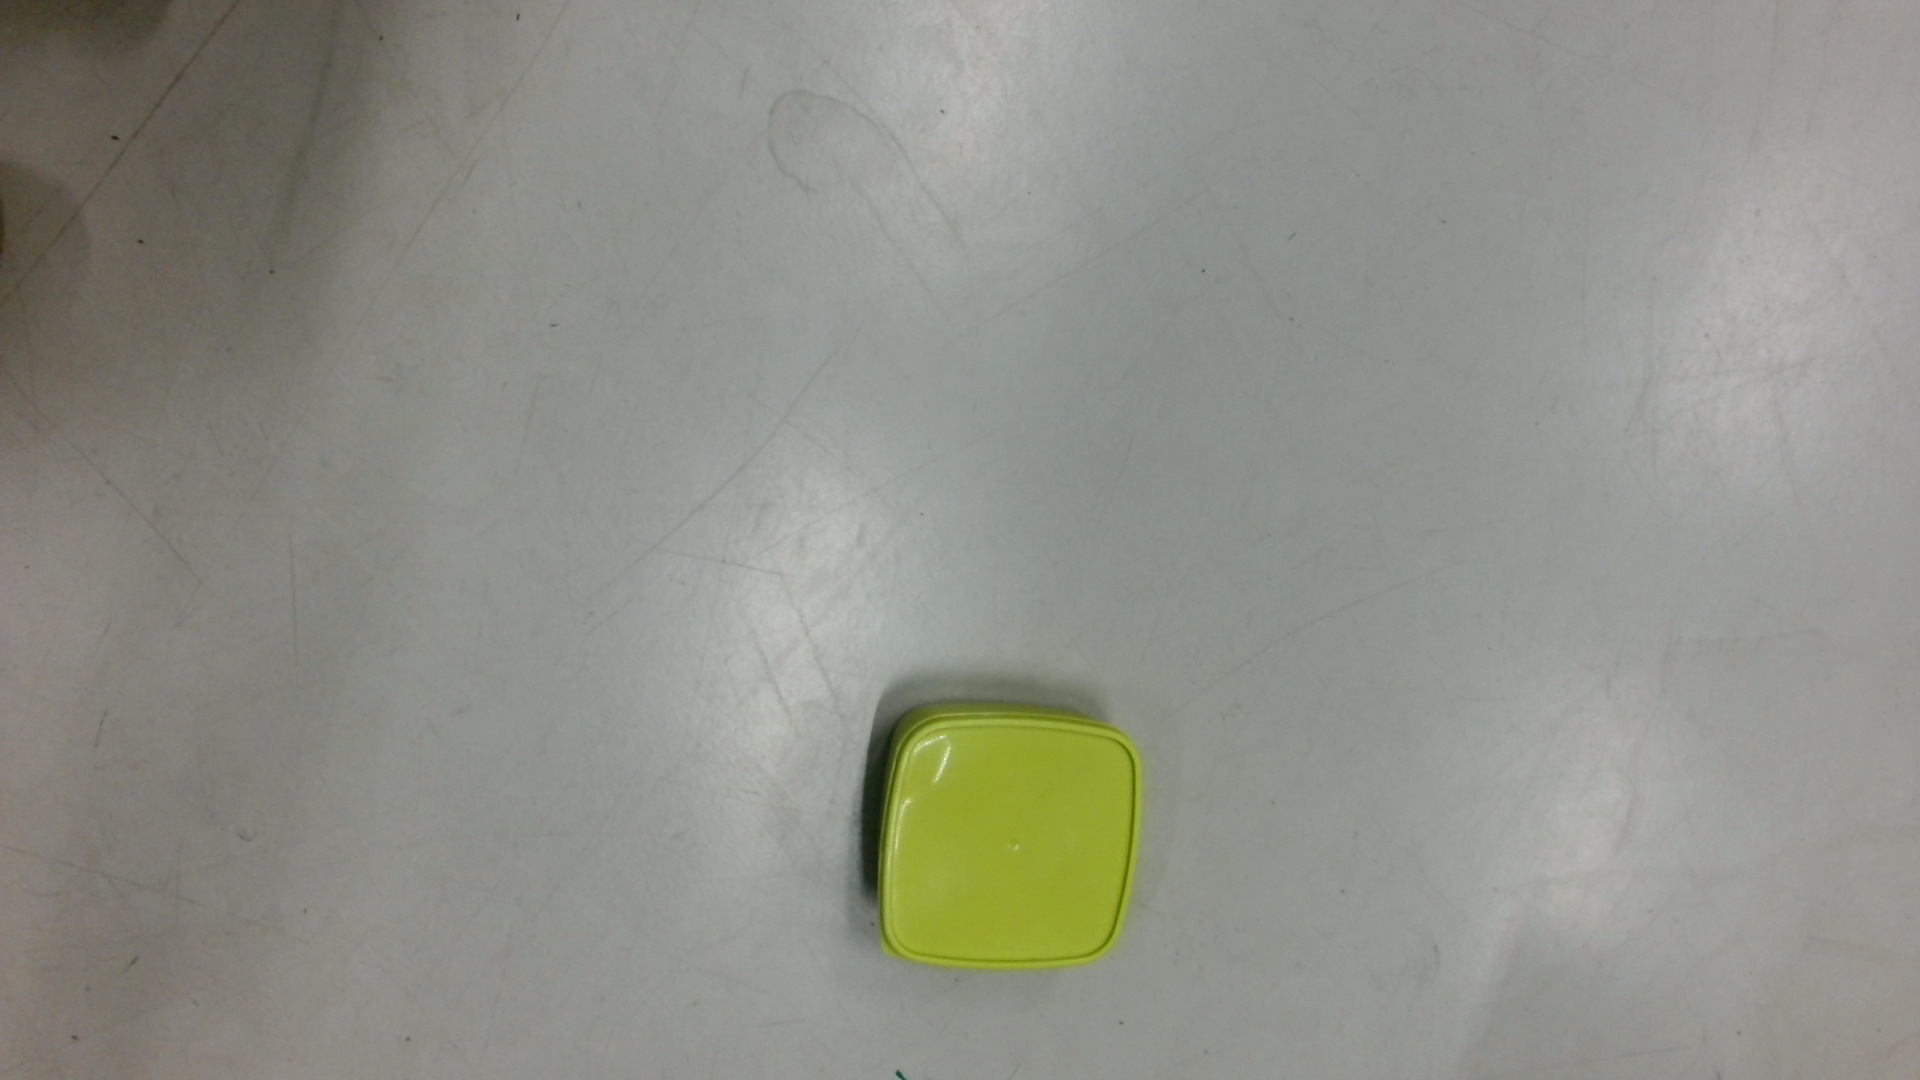Box: (865, 702, 1149, 981)
